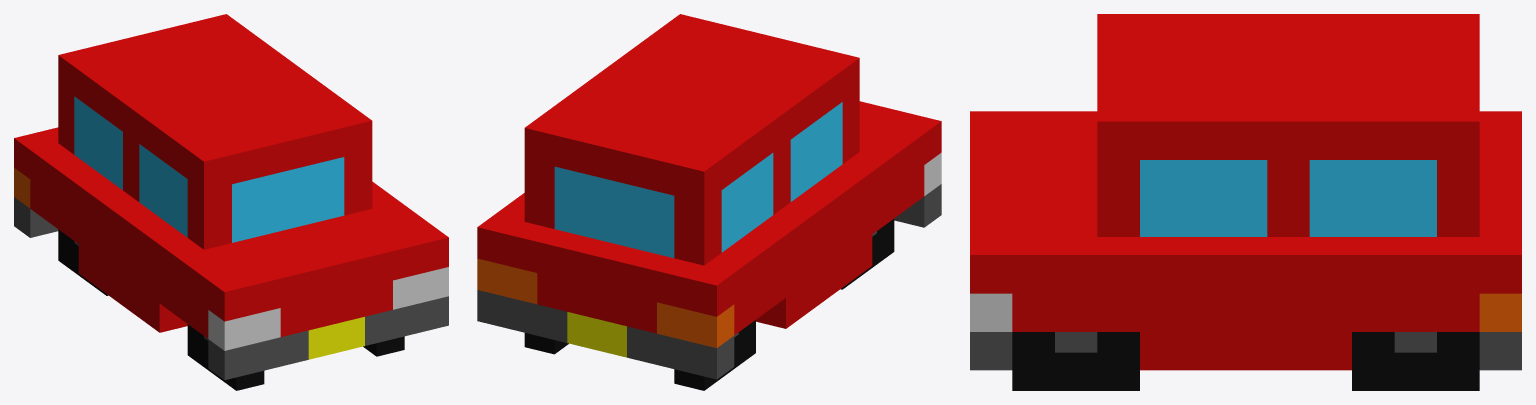
File: Car_red.fbx
3 renders of one model, left to right at view 1: azimuth 30°, elevation 25°; view 2: azimuth 150°, elevation 25°; view 3: azimuth 270°, elevation 25°, orthographic. The views are drawn at different scales.
Visible parts, largest first — view 1: 立方体.209, 立方体.421, 立方体.013, 立方体.367, 立方体.105, 立方体.313, 立方体.212, 立方体.425, 立方体.210, 立方体.211, 立方体.423, 立方体.213 (+142 smaller); view 2: 立方体.469, 立方体.305, 立方体.201, 立方体.097, 立方体.361, 立方体.415, 立方体.312, 立方体.471, 立方体.473, 立方体.310, 立方体.311, 立方体.472 (+130 smaller); view 3: 立方体.264, 立方体.444, 立方体.216, 立方体.224, 立方体.232, 立方体.240, 立方体.248, 立方体.256, 立方体.272, 立方体.280, 立方体.288, 立方体.296 (+133 smaller).
Part boxes in pixels (x1,y1,x2,y2): 立方体.209: (208, 273, 252, 321); 立方体.421: (187, 143, 231, 190); 立方体.013: (208, 339, 252, 380); 立方体.367: (187, 179, 231, 220); 立方体.105: (208, 310, 252, 350); 立方体.313: (187, 209, 231, 249); 立方体.212: (293, 253, 336, 300); 立方体.425: (300, 116, 344, 163); 立方体.210: (236, 266, 280, 314); 立方体.211: (265, 260, 308, 307); 立方体.423: (244, 129, 288, 177); 立方体.213: (321, 246, 364, 293); 立方体.469: (674, 151, 721, 202); 立方体.305: (687, 265, 734, 316); 立方体.201: (687, 304, 734, 348); 立方体.097: (687, 336, 734, 379); 立方体.361: (674, 222, 721, 265); 立方体.415: (674, 190, 721, 234); 立方体.312: (477, 214, 524, 265); 立方体.471: (614, 137, 661, 188); 立方体.473: (554, 122, 601, 173); 立方体.310: (537, 229, 583, 280); 立方体.311: (507, 222, 554, 272); 立方体.472: (584, 130, 631, 180); 立方体.264: (1224, 237, 1267, 293); 立方体.444: (1224, 103, 1267, 159); 立方体.216: (970, 237, 1012, 293); 立方体.224: (1012, 237, 1054, 293); 立方体.232: (1055, 237, 1097, 293); 立方体.240: (1097, 237, 1139, 293); 立方体.248: (1140, 237, 1182, 293); 立方体.256: (1182, 237, 1224, 293); 立方体.272: (1267, 237, 1309, 293); 立方体.280: (1309, 237, 1351, 293); 立方体.288: (1352, 237, 1394, 293); 立方体.296: (1394, 237, 1436, 293).
Bounding box in the file's own units: 800 × 700 × 1300.
